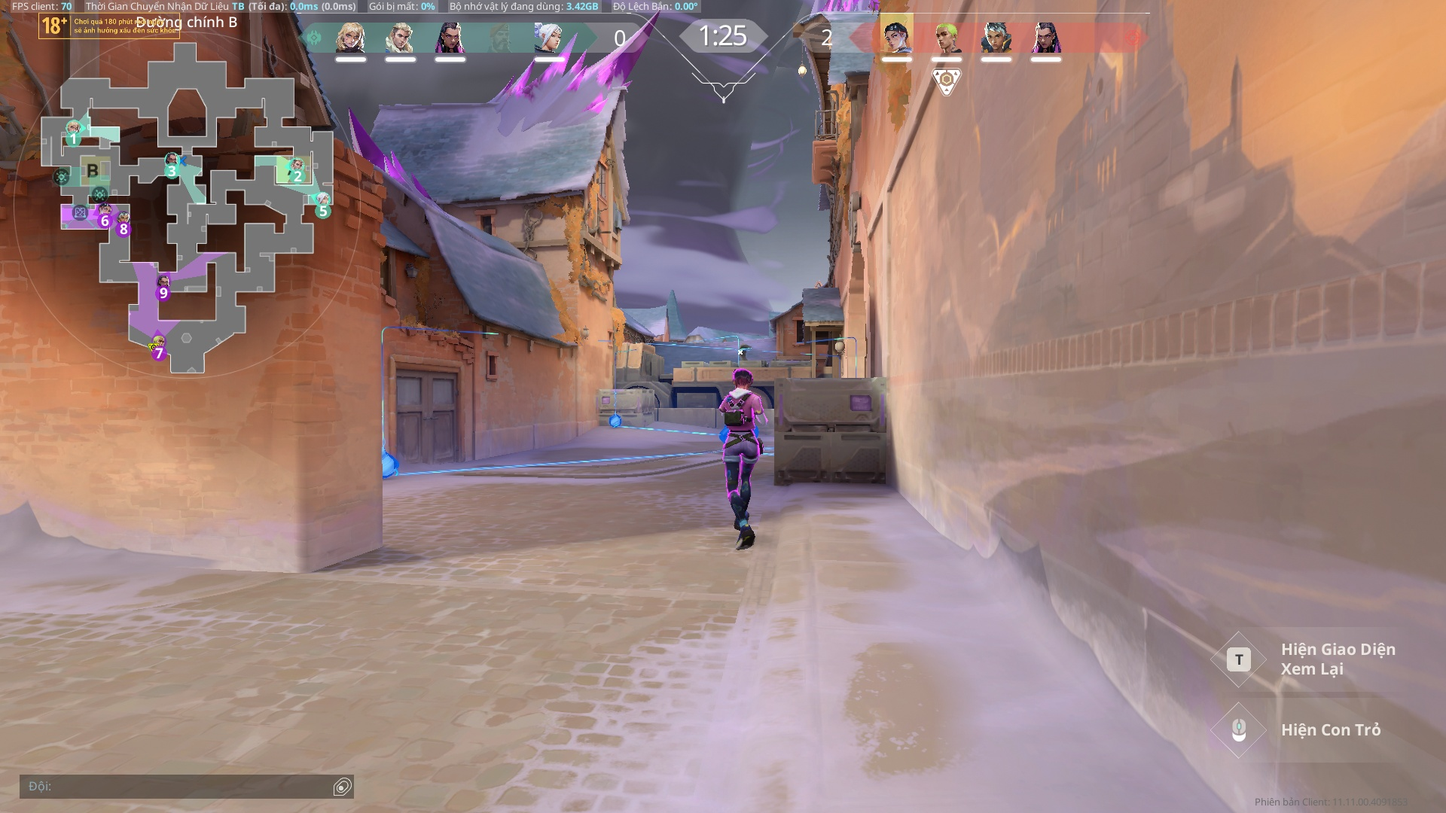body: (712, 386, 764, 434)
head: (731, 369, 752, 391)
